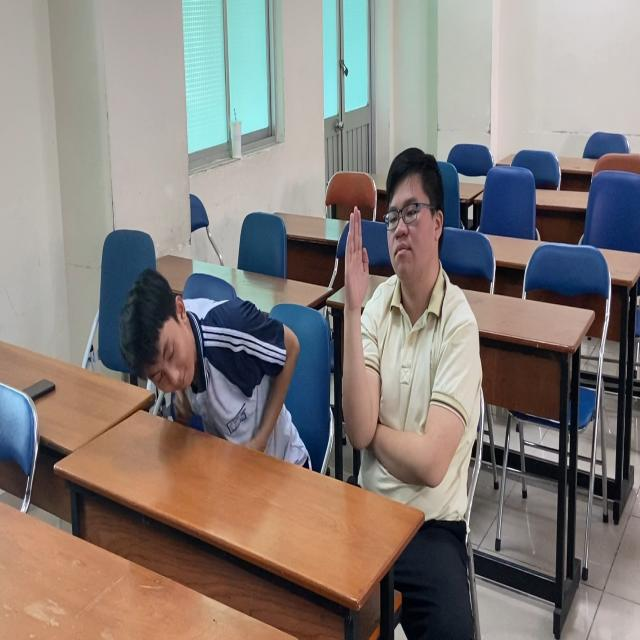raise_hand: (334, 140, 479, 509)
